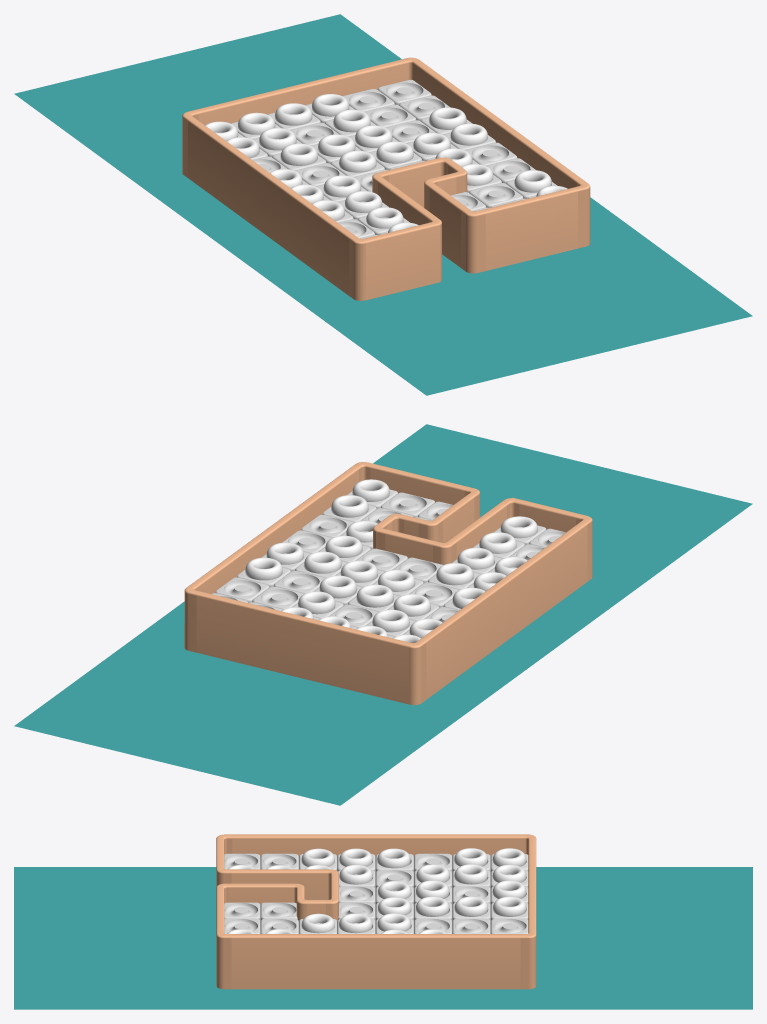
The model's file is MAP.fbx.
3 renders of one model, top to bottom at view 1: azimuth 30°, elevation 25°; view 2: azimuth 150°, elevation 25°; view 3: azimuth 270°, elevation 25°, orthographic. The views are drawn at different scales.
Visible parts, largest first — view 1: Plane, Board, Border_Straight.001, Border_Straight.008, Border_Straight.002, Border_Straight, Border_Straight.009, Border_Straight.007, Broad.011, Border_Straight.004, Border_Straight.003, Broad.005 (+18 smaller); view 2: Plane, Border_Straight, Board, Border_Straight.001, Border_Straight.009, Border_Straight.008, Border_Straight.003, Border_Straight.002, Border_Straight.004, Broad.001, Border_Straight.007, Broad.004 (+17 smaller); view 3: Plane, Border_Straight.009, Board, Border_Straight.001, Border_Straight.003, Border_Straight.007, Broad.004, Broad.012, Border_Straight, Torus_0 Mesh.004, Torus_0 Mesh.009, Torus_0 Mesh.014 (+17 smaller).
Boxes of the visible parts, x1,y1,x2,y2 form: Plane: [14, 14, 752, 395]; Board: [218, 79, 557, 238]; Border_Straight.001: [185, 115, 355, 295]; Border_Straight.008: [481, 187, 577, 270]; Border_Straight.002: [363, 221, 440, 300]; Border_Straight: [188, 59, 408, 125]; Border_Straight.009: [413, 59, 583, 188]; Border_Straight.007: [428, 182, 469, 267]; Broad.011: [461, 208, 485, 273]; Border_Straight.004: [385, 157, 443, 207]; Border_Straight.003: [377, 177, 435, 225]; Broad.005: [349, 236, 369, 300]; Plane: [14, 424, 752, 805]; Border_Straight: [193, 590, 412, 704]; Board: [212, 489, 565, 638]; Border_Straight.001: [416, 522, 587, 699]; Border_Straight.009: [188, 466, 358, 593]; Border_Straight.008: [370, 464, 467, 504]; Border_Straight.003: [447, 502, 506, 558]; Border_Straight.002: [510, 497, 586, 532]; Border_Straight.004: [376, 528, 435, 562]; Broad.001: [406, 641, 426, 704]; Border_Straight.007: [433, 493, 475, 542]; Broad.004: [184, 584, 197, 652]; Plane: [14, 867, 752, 1009]; Border_Straight.009: [231, 934, 527, 989]; Board: [224, 853, 528, 933]; Border_Straight.001: [231, 834, 527, 856]; Border_Straight.003: [231, 869, 328, 899]; Border_Straight.007: [227, 883, 294, 904]; Broad.004: [520, 930, 536, 989]; Broad.012: [216, 930, 231, 989]; Border_Straight: [528, 837, 536, 932]; Torus_0 Mesh.004: [493, 896, 526, 916]; Torus_0 Mesh.009: [454, 864, 487, 884]; Torus_0 Mesh.014: [416, 896, 449, 916].
Size of the model in its own units: 880 by 180 by 1926.
